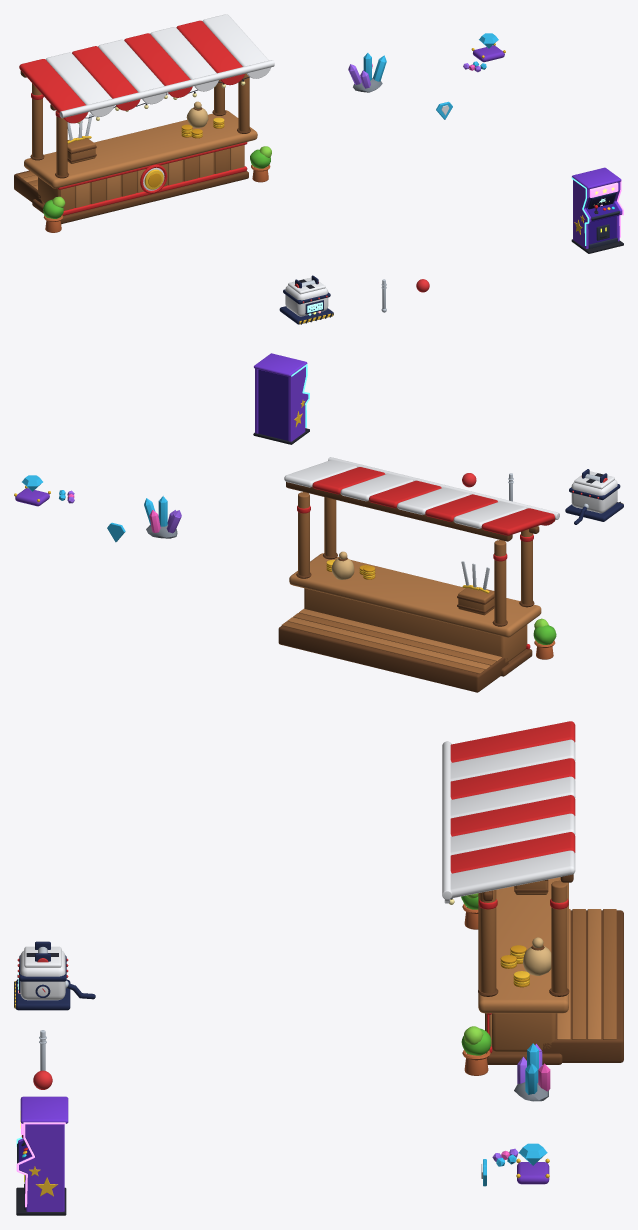
Rendered from PropsRestyle.fbx.
The picture shows the model from 3 angles, top to bottom: view 1: azimuth 30°, elevation 25°; view 2: azimuth 150°, elevation 25°; view 3: azimuth 270°, elevation 25°; orthographic projection. The views are drawn at different scales.
Parts seen in each view (by area): view 1: Stall__Accent, Stall__LabWhite, Stall__WoodLight, Stall__Wood, Stall__WoodDark, ArcadeMachine__ArcPurple, LeverConsole__LabWhite, GemProps__Gem, ArcadeMachine__ArcDark, LeverConsole__LabNavy, Stall__Leaf, MarketProps__Wood (+3 smaller); view 2: Stall__Wood, Stall__WoodLight, Stall__WoodDark, Stall__LabWhite, Stall__Accent, ArcadeMachine__ArcPurple, ArcadeMachine__ArcDark, LeverConsole__LabWhite, GemProps__Gem, LeverConsole__LabNavy, MarketProps__Wood; view 3: Stall__LabWhite, Stall__Accent, Stall__Wood, Stall__WoodLight, Stall__WoodDark, ArcadeMachine__ArcPurple, LeverConsole__LabWhite, LeverConsole__LabNavy, GemProps__Gem, Stall__Pot, MarketProps__Sack, GemProps__Velvet.
Part boxes in pixels (box(x1,y1,x2,y2)): Stall__Accent: box(19, 20, 247, 215); Stall__LabWhite: box(46, 14, 274, 190); Stall__WoodLight: box(22, 110, 257, 207); Stall__Wood: box(17, 73, 249, 210); Stall__WoodDark: box(14, 70, 250, 224); ArcadeMachine__ArcPurple: box(572, 167, 622, 248); LeverConsole__LabWhite: box(285, 277, 328, 316); GemProps__Gem: box(363, 33, 498, 119); ArcadeMachine__ArcDark: box(586, 189, 619, 244); LeverConsole__LabNavy: box(279, 275, 333, 324); Stall__Leaf: box(43, 149, 270, 218); MarketProps__Wood: box(67, 137, 95, 163); Stall__Wood: box(281, 492, 532, 673); Stall__WoodLight: box(287, 553, 541, 669); Stall__WoodDark: box(278, 482, 539, 692); Stall__LabWhite: box(284, 457, 559, 528); Stall__Accent: box(297, 467, 555, 649); ArcadeMachine__ArcPurple: box(254, 353, 308, 441); ArcadeMachine__ArcDark: box(258, 369, 288, 440); LeverConsole__LabWhite: box(571, 471, 617, 513); GemProps__Gem: box(22, 475, 167, 542); LeverConsole__LabNavy: box(565, 469, 623, 524); MarketProps__Wood: box(458, 587, 494, 615); Stall__LabWhite: box(442, 739, 575, 903); Stall__Accent: box(450, 721, 575, 1052); Stall__Wood: box(480, 880, 616, 1051); Stall__WoodLight: box(478, 877, 601, 1046); Stall__WoodDark: box(478, 874, 623, 1064); ArcadeMachine__ArcPurple: box(18, 1096, 68, 1211); LeverConsole__LabWhite: box(17, 946, 65, 1000); LeverConsole__LabNavy: box(15, 941, 95, 1010); GemProps__Gem: box(483, 1043, 547, 1186); Stall__Pot: box(462, 904, 490, 1075); MarketProps__Sack: box(523, 937, 551, 975); GemProps__Velvet: box(517, 1162, 549, 1184).
Size of the model in its own units: 4921 by 1564 by 3771.
